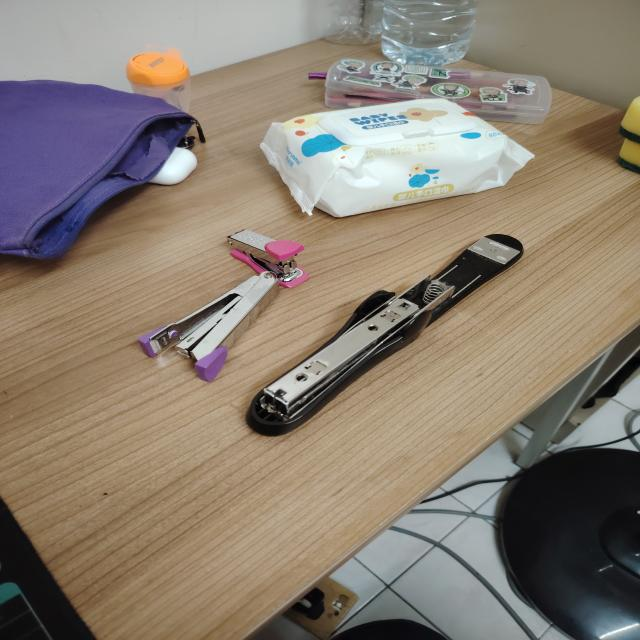sharpener: (126, 52, 190, 112)
stapler: (246, 234, 523, 436), (138, 230, 308, 381), (227, 230, 308, 288)
